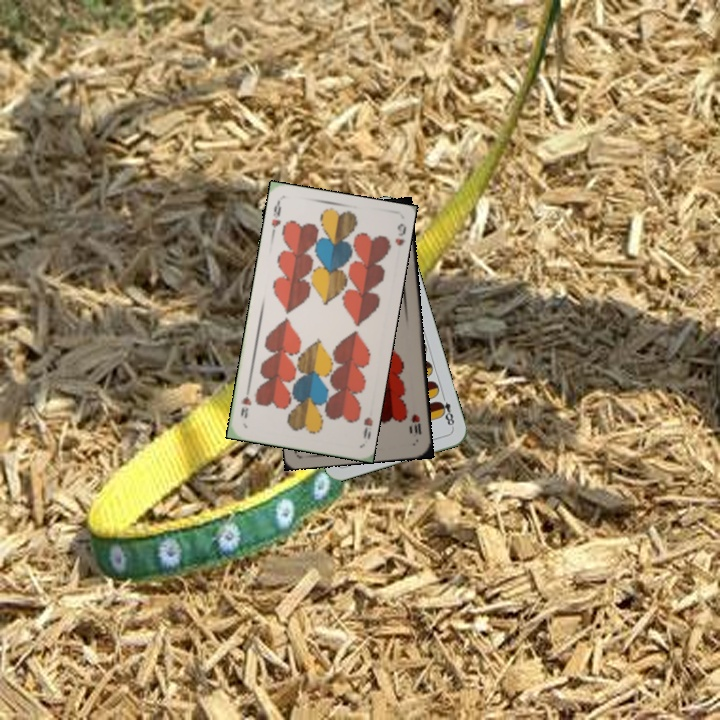E8: (434, 391, 457, 431)
H10: (406, 410, 424, 439)
H9: (267, 197, 283, 238), (359, 413, 375, 442)
